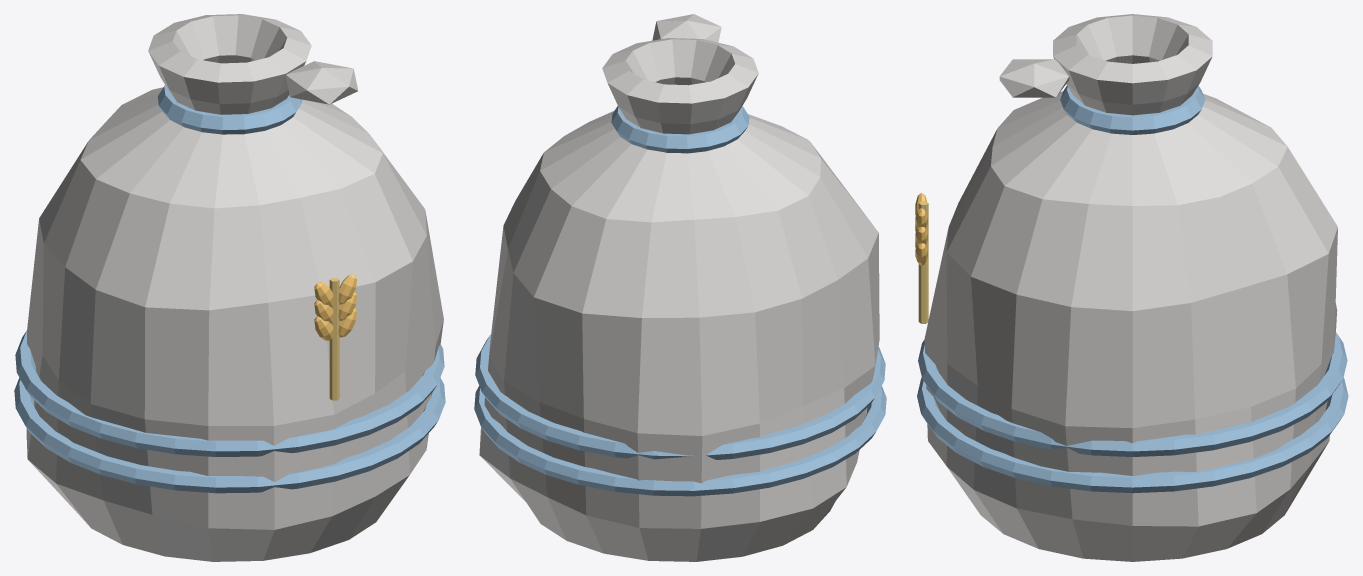
File: ITEM_FlourSack.fbx
The picture shows the model from 3 angles, left to right: view 1: azimuth 30°, elevation 25°; view 2: azimuth 150°, elevation 25°; view 3: azimuth 270°, elevation 25°; orthographic projection. The views are drawn at different scales.
Parts seen in each view (by area): view 1: ITEM_FlourSack; view 2: ITEM_FlourSack; view 3: ITEM_FlourSack.
Boxes of the visible parts, x1,y1,x2,y2 form: ITEM_FlourSack: (14, 14, 445, 561); ITEM_FlourSack: (474, 14, 886, 561); ITEM_FlourSack: (915, 14, 1348, 561).
Bounding box in the file's own units: 52.65 × 61.2 × 52.84.
